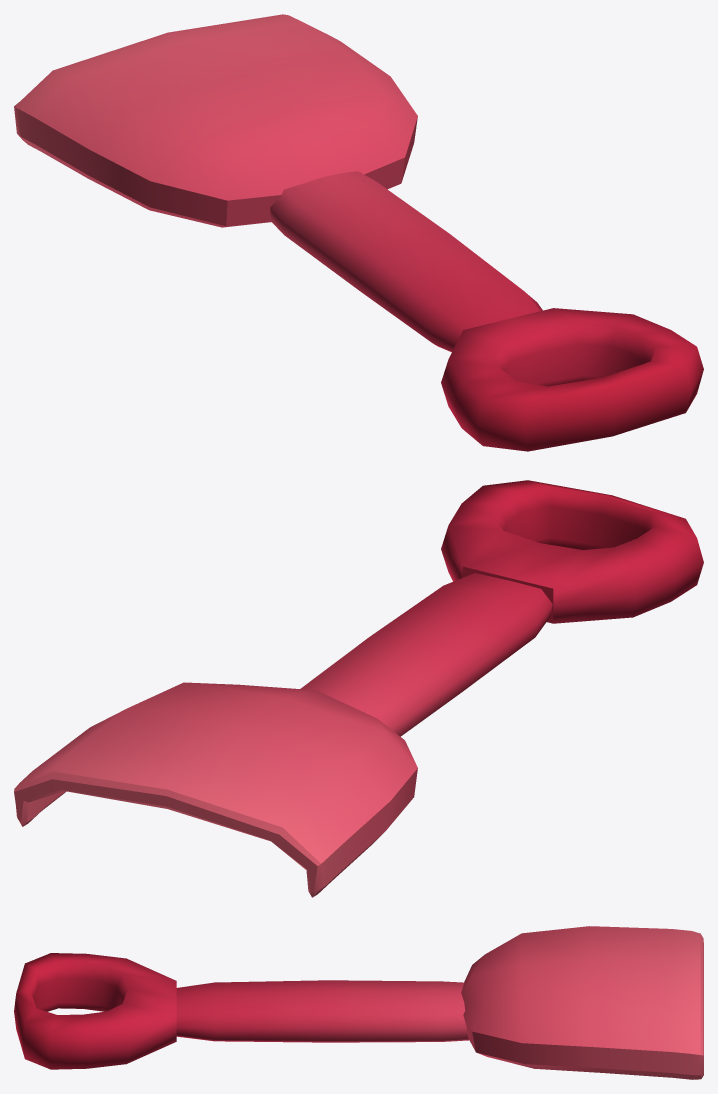
The model's file is Msh_Pala.fbx.
3 views of the same model, one above another, from view 1: azimuth 30°, elevation 25°; view 2: azimuth 150°, elevation 25°; view 3: azimuth 270°, elevation 25° (orthographic). The views are drawn at different scales.
Visible parts, largest first — view 1: Msh_Pala000, Msh_Pala001, Msh_Pala002; view 2: Msh_Pala000, Msh_Pala001, Msh_Pala002; view 3: Msh_Pala000, Msh_Pala002, Msh_Pala001.
Part boxes in pixels (box(x1,y1,x2,y2)): Msh_Pala000: box(14, 14, 417, 227); Msh_Pala001: box(441, 308, 703, 451); Msh_Pala002: box(270, 171, 542, 352); Msh_Pala000: box(14, 682, 417, 897); Msh_Pala001: box(441, 480, 703, 623); Msh_Pala002: box(300, 573, 552, 736); Msh_Pala000: box(461, 926, 703, 1079); Msh_Pala002: box(176, 980, 468, 1042); Msh_Pala001: box(14, 953, 176, 1069).
Bounding box in the file's own units: 22.72 × 6.73 × 57.29.
